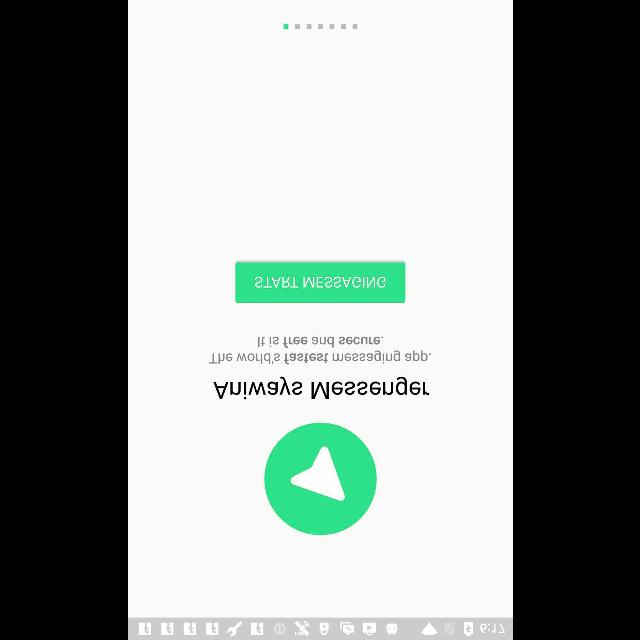image: (264, 422, 376, 536)
pageindicator: (282, 24, 358, 30)
text: (209, 337, 431, 365), (213, 376, 429, 399)
textbutton: (235, 263, 405, 303)
uppertaskbar: (128, 617, 512, 639)
